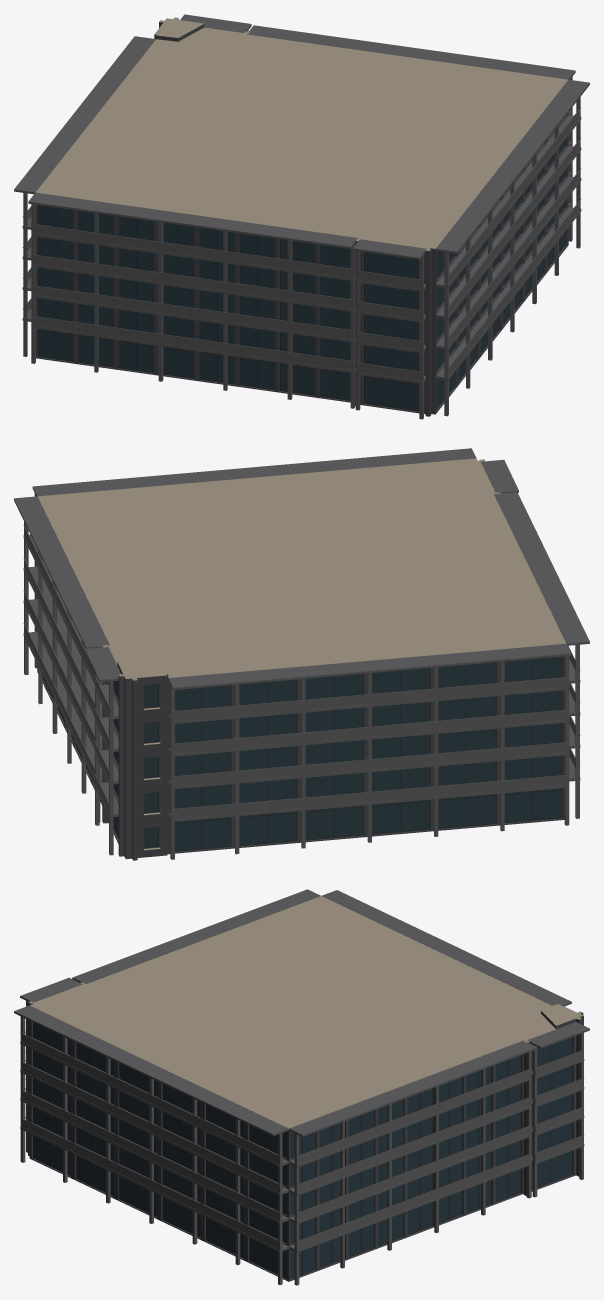
Rendered from recipe-large-houthavens-249741.glb.
The picture shows the model from 3 angles, top to bottom: view 1: azimuth 30°, elevation 25°; view 2: azimuth 150°, elevation 25°; view 3: azimuth 270°, elevation 25°; orthographic projection. The views are drawn at different scales.
Visible parts, largest first — view 1: houthavens-249741; view 2: houthavens-249741; view 3: houthavens-249741.
Part boxes in pixels (x1,y1,x2,y2): houthavens-249741: (14,14,589,419); houthavens-249741: (14,448,589,860); houthavens-249741: (14,889,589,1285).
Size of the model in its own units: 61.29 by 18.23 by 60.67.
